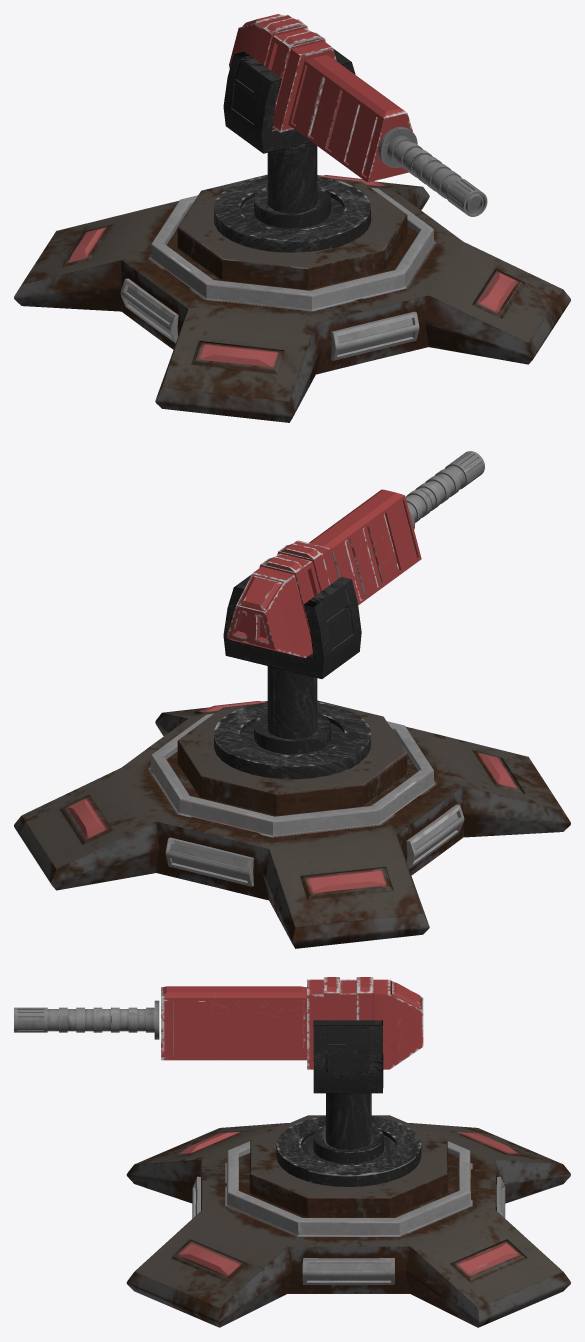
Rendered from Turret_Level1_Seperated.fbx.
The picture shows the model from 3 angles, top to bottom: view 1: azimuth 30°, elevation 25°; view 2: azimuth 150°, elevation 25°; view 3: azimuth 270°, elevation 25°; orthographic projection. The views are drawn at different scales.
Visible parts, largest first — view 1: Level 1 turret base, Level 1 turret gun; view 2: Level 1 turret base, Level 1 turret gun; view 3: Level 1 turret base, Level 1 turret gun.
Boxes of the visible parts, x1=… form: Level 1 turret base: x1=14, y1=142, x2=570, y2=422; Level 1 turret gun: x1=223, y1=14, x2=487, y2=216; Level 1 turret base: x1=14, y1=666, x2=570, y2=948; Level 1 turret gun: x1=223, y1=451, x2=484, y2=678; Level 1 turret base: x1=126, y1=1093, x2=570, y2=1327; Level 1 turret gun: x1=14, y1=977, x2=423, y2=1093.
Size of the model in its own units: 365 by 234 by 461.
